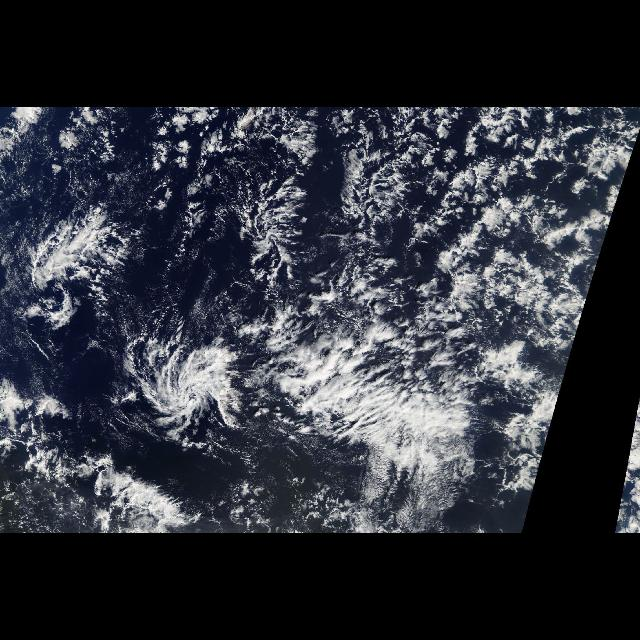Fish: (20, 198, 540, 452)
Flower: (425, 114, 619, 268), (54, 114, 230, 178)
Gravel: (342, 108, 640, 276)
Sugar: (245, 446, 535, 532), (125, 178, 245, 340)
